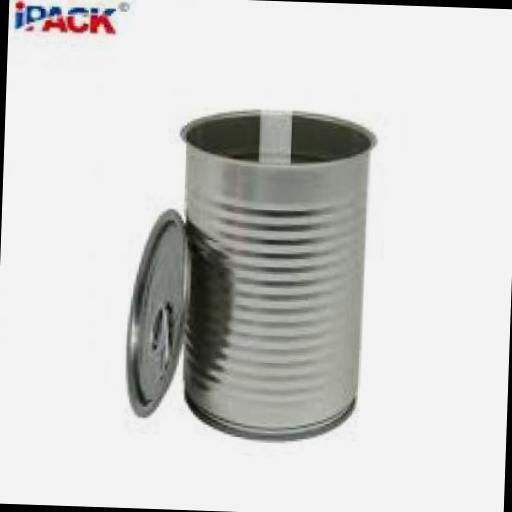metal: (169, 104, 376, 443), (120, 205, 190, 421)
